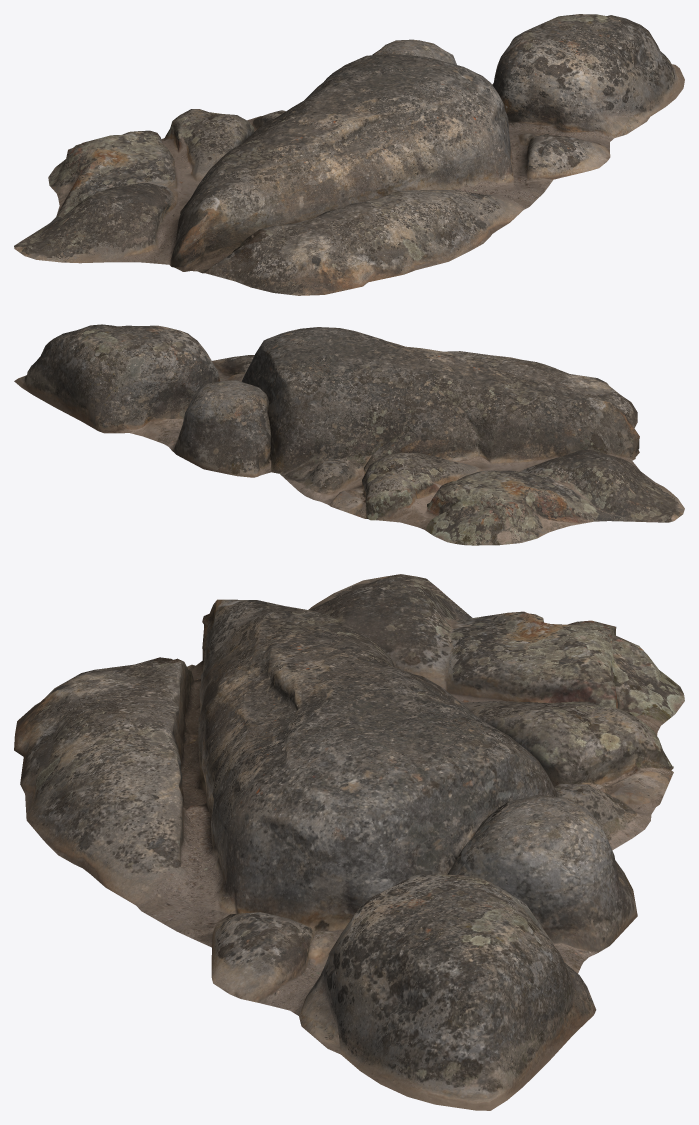
The model's file is SM_yexkegq_tier_2.gltf.
3 views of the same model, one above another, from view 1: azimuth 30°, elevation 25°; view 2: azimuth 150°, elevation 25°; view 3: azimuth 270°, elevation 25° (orthographic). The views are drawn at different scales.
Parts seen in each view (by area): view 1: yexkegq_LOD2_TIER2_000; view 2: yexkegq_LOD2_TIER2_000; view 3: yexkegq_LOD2_TIER2_000.
Part boxes in pixels (x1,y1,x2,y2): yexkegq_LOD2_TIER2_000: (14, 14, 684, 295); yexkegq_LOD2_TIER2_000: (14, 324, 684, 545); yexkegq_LOD2_TIER2_000: (14, 574, 684, 1110).
Size of the model in its own units: 2.48 by 0.3153 by 1.31.
1 material, 1 textured.
